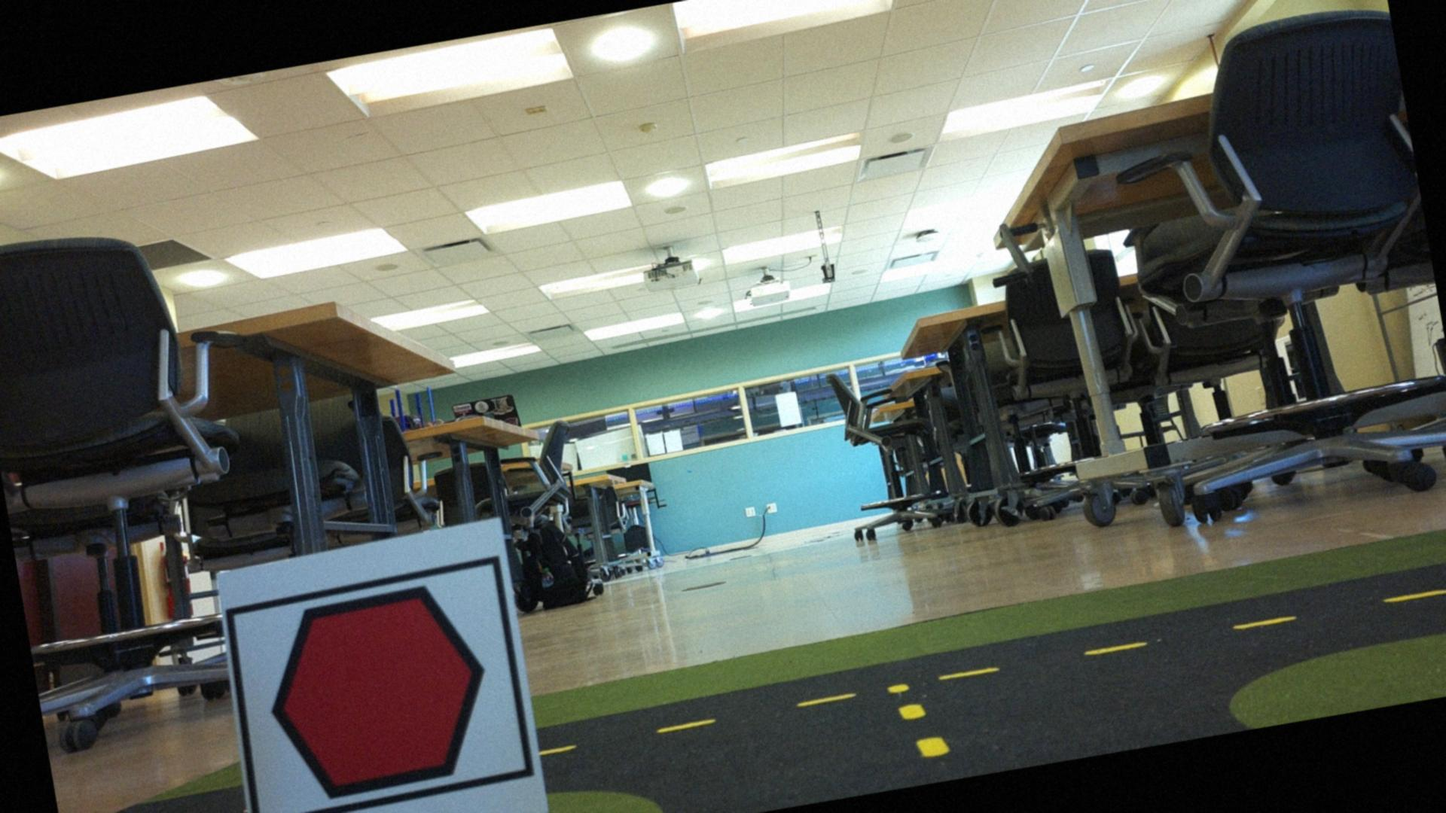stop: (238, 570, 515, 812)
yellowline: (888, 675, 950, 765)
